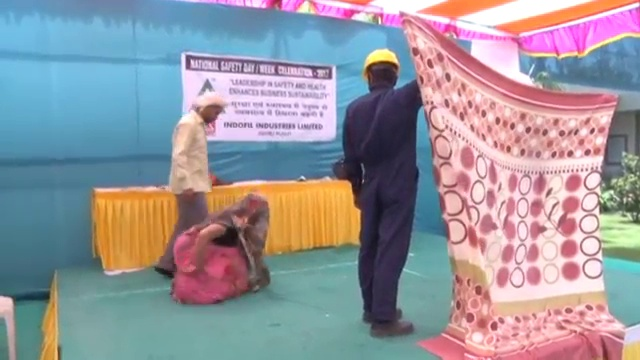helmet: (359, 48, 403, 76)
helmet_off: (194, 94, 228, 125), (238, 193, 268, 225)
helmet_on: (357, 47, 403, 92)
person: (340, 47, 423, 341), (158, 93, 220, 277), (171, 192, 269, 305)
